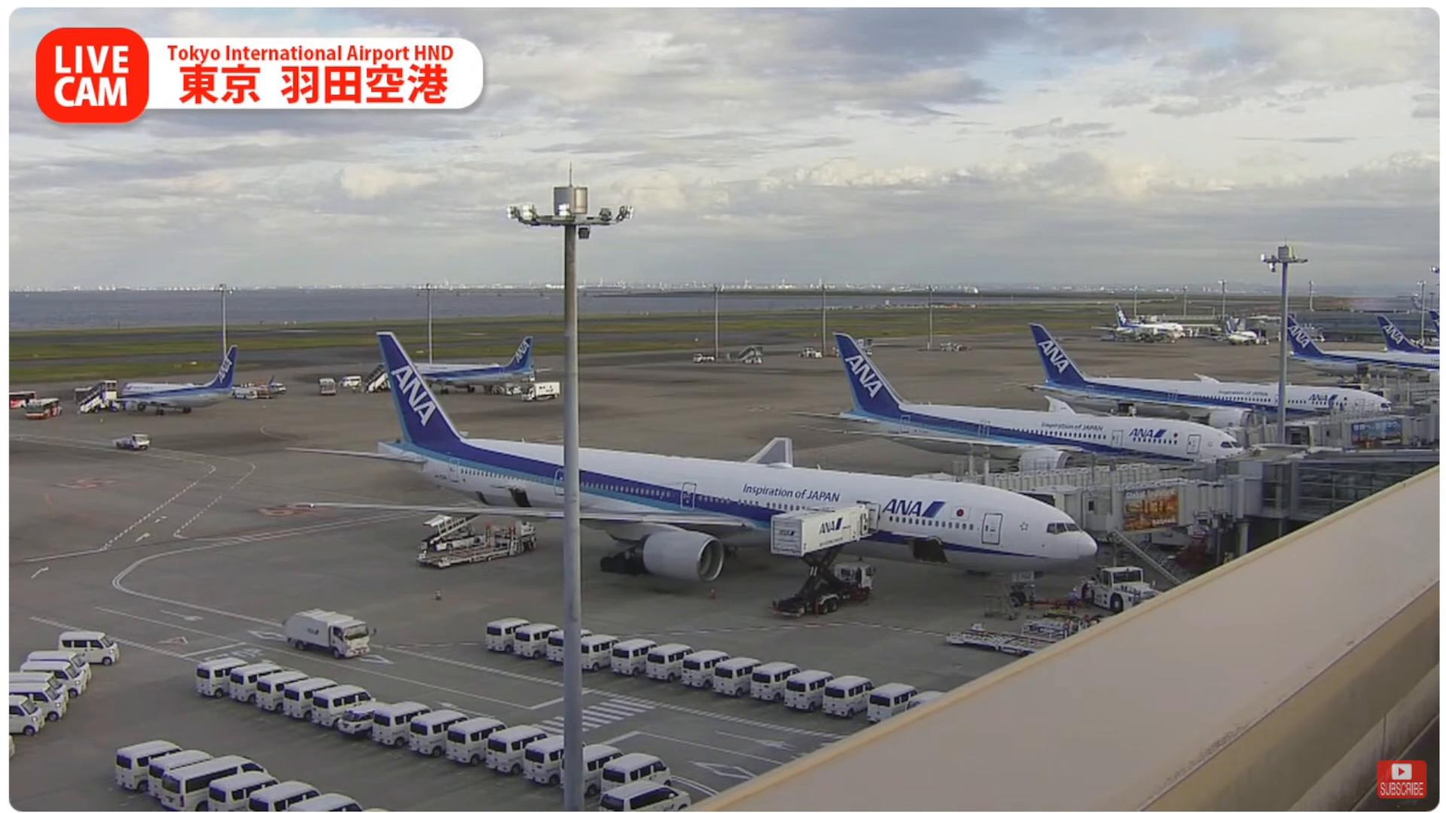APS: (1070, 562, 1171, 614)
Aerobridge: (937, 438, 1217, 490), (1025, 480, 1229, 535)
Airplane: (279, 328, 1098, 610)
Baggage truck: (281, 602, 378, 662)
Catering: (767, 504, 882, 623)
JCPL: (414, 511, 533, 568), (941, 623, 1063, 648)
Skyloader: (417, 513, 486, 554)
Window: (1286, 455, 1435, 523)
